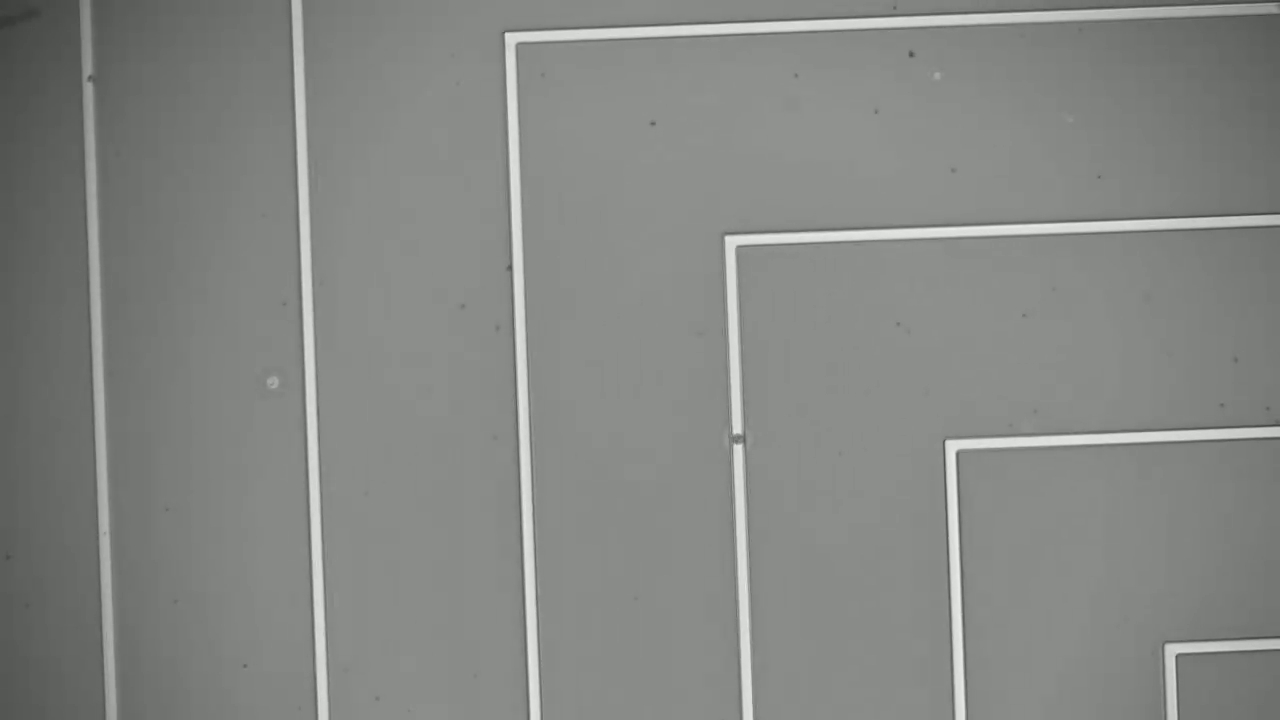stains_enbedded: (723, 422, 758, 455)
